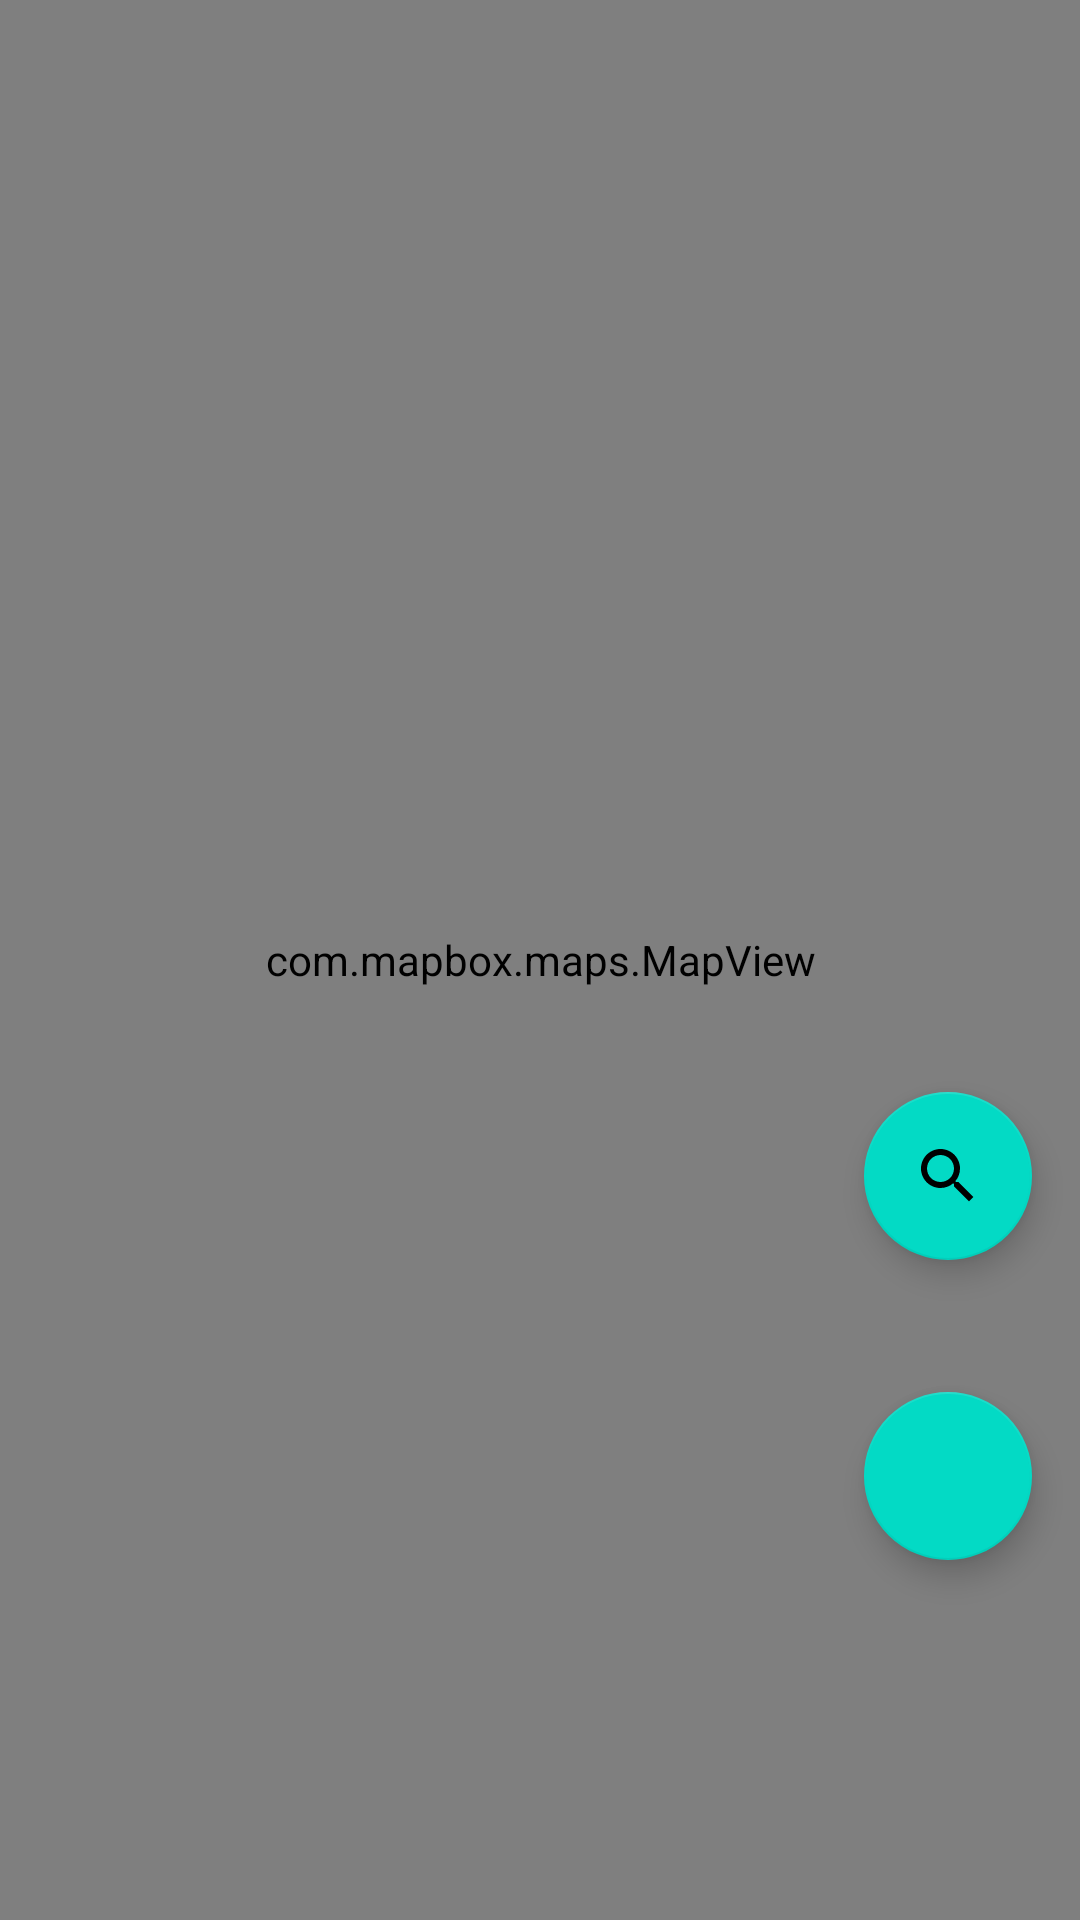

Named icons in this screenshot (1080px×1920px) and their bounding boxes, box(x1, y1, x2, y2):
search: box(864, 1092, 1032, 1260)
